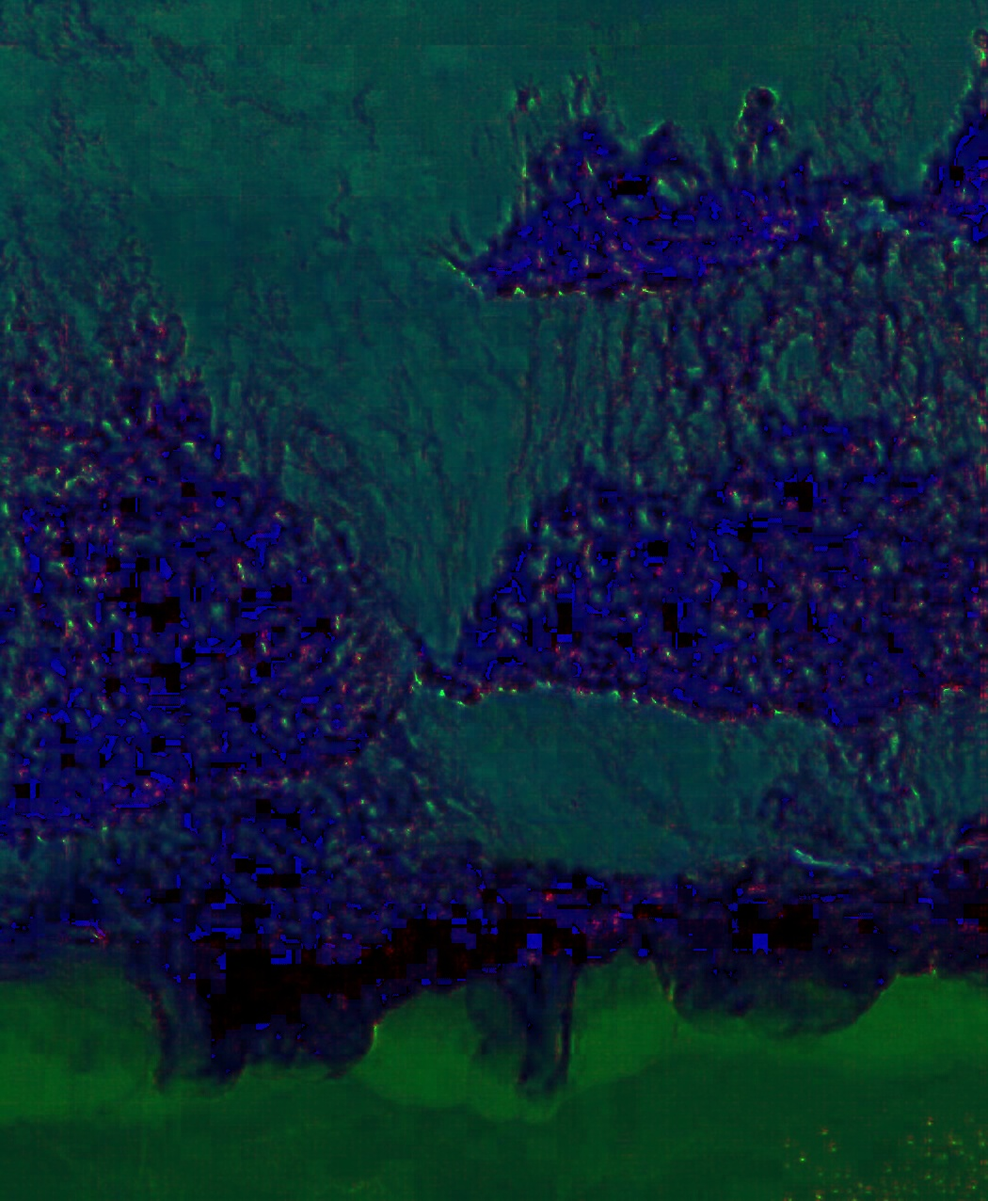rip_current: (184, 119, 619, 808)
